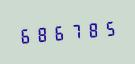eight: (33, 22, 48, 45), (82, 18, 97, 41)
five: (98, 17, 113, 39)
seven: (66, 20, 81, 42)
six: (50, 21, 65, 44), (17, 24, 32, 46)
